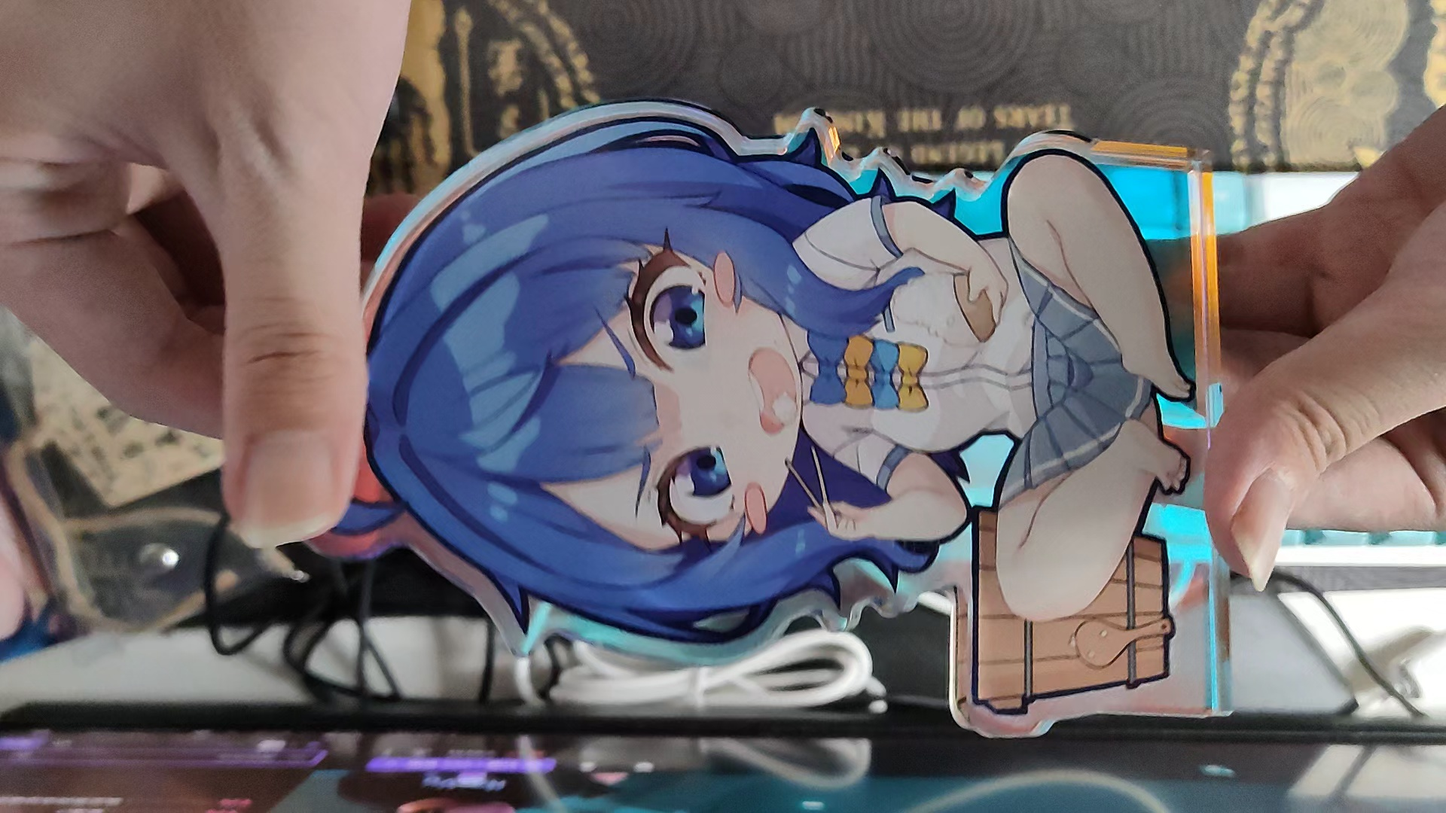Yanami-anna: (279, 103, 1236, 739)
